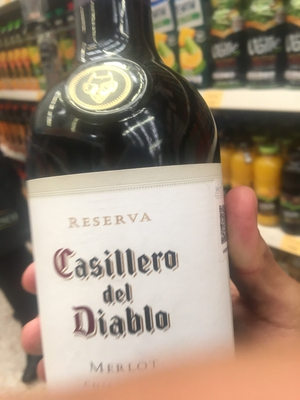casillero del diablo merlot: (10, 1, 248, 400)
